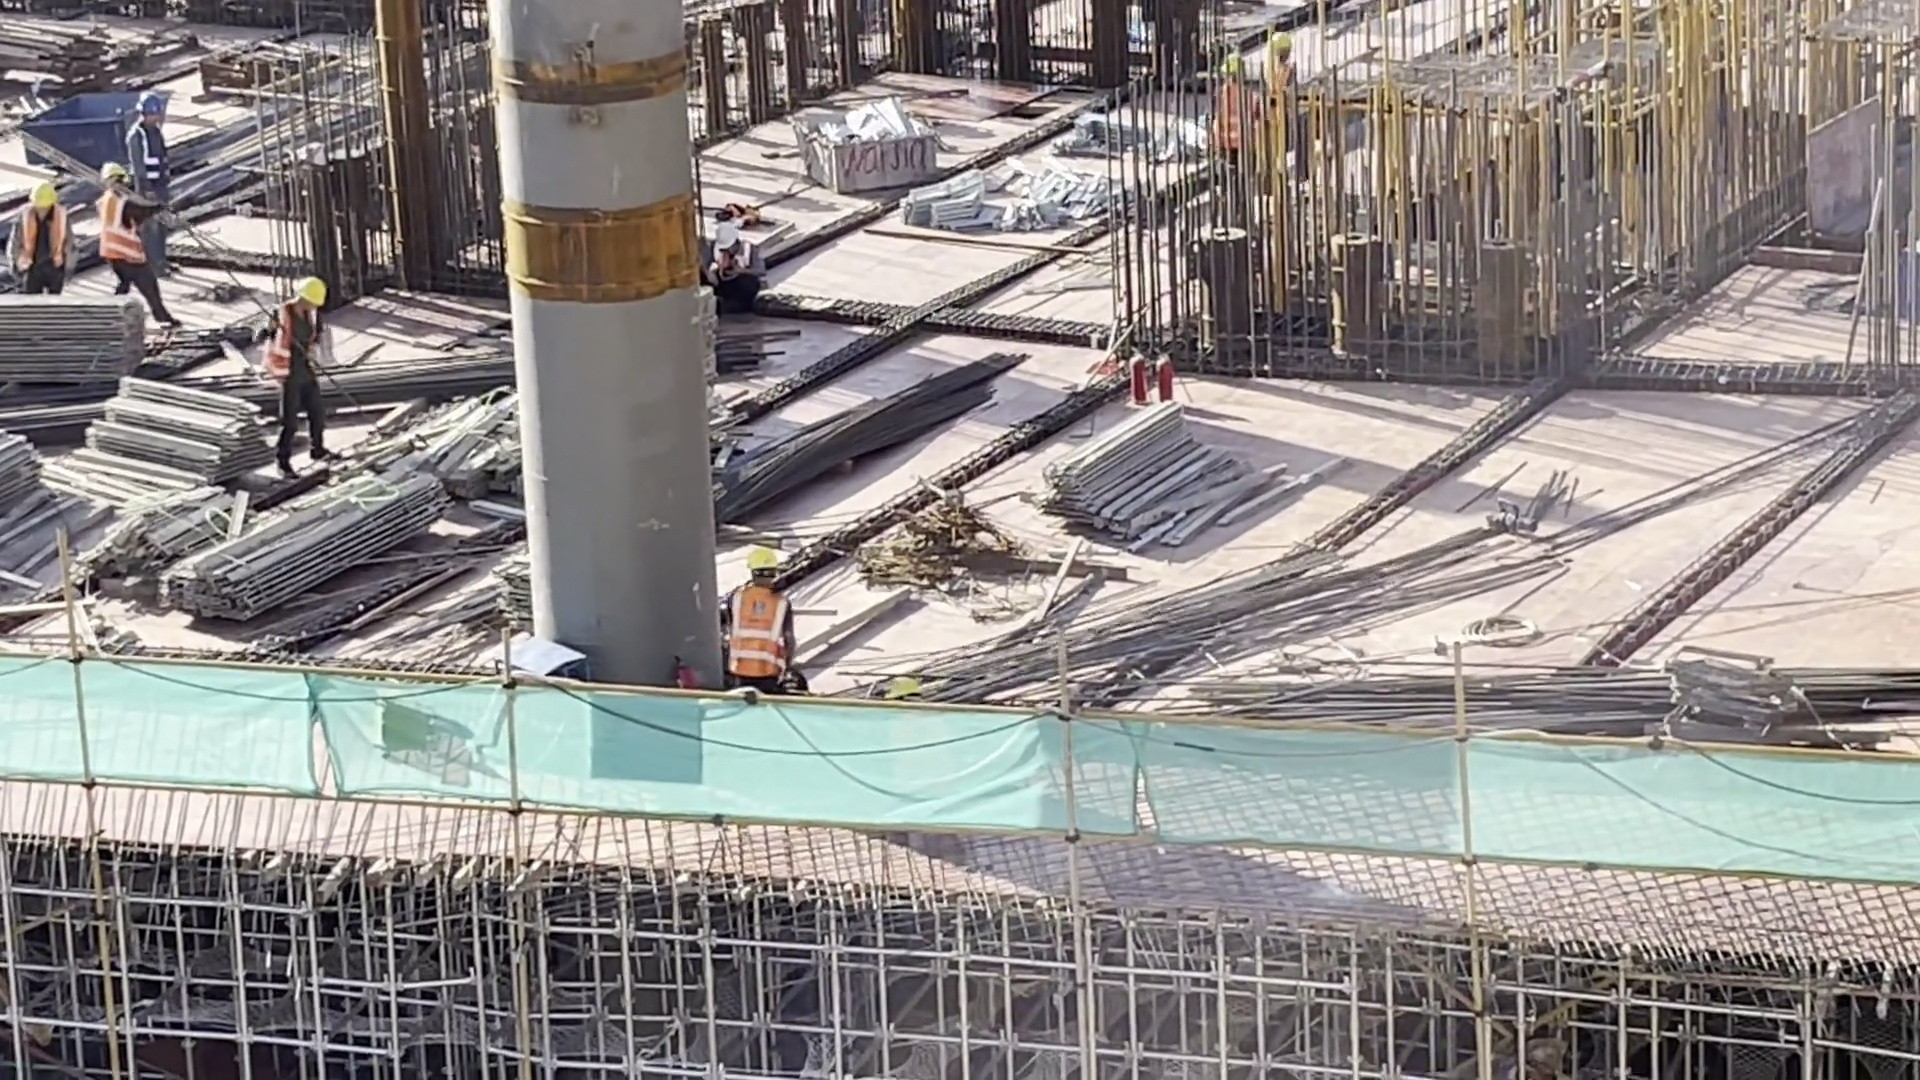helmet: (19, 164, 63, 212), (740, 541, 784, 576), (93, 149, 128, 189), (1222, 48, 1258, 83), (134, 83, 167, 117), (295, 274, 322, 313), (712, 226, 740, 245)
hopper: (8, 86, 164, 200), (789, 89, 947, 190)
person: (249, 264, 347, 494), (711, 531, 822, 708), (119, 89, 188, 334), (688, 200, 777, 317), (75, 157, 145, 302), (1197, 45, 1273, 176), (15, 171, 66, 298)
vest: (730, 578, 777, 687), (126, 116, 174, 201), (280, 295, 319, 391), (99, 200, 151, 268), (17, 204, 64, 265), (1221, 83, 1263, 149)
wood: (186, 450, 419, 619), (1033, 375, 1221, 545), (77, 375, 263, 509), (3, 264, 167, 406)
